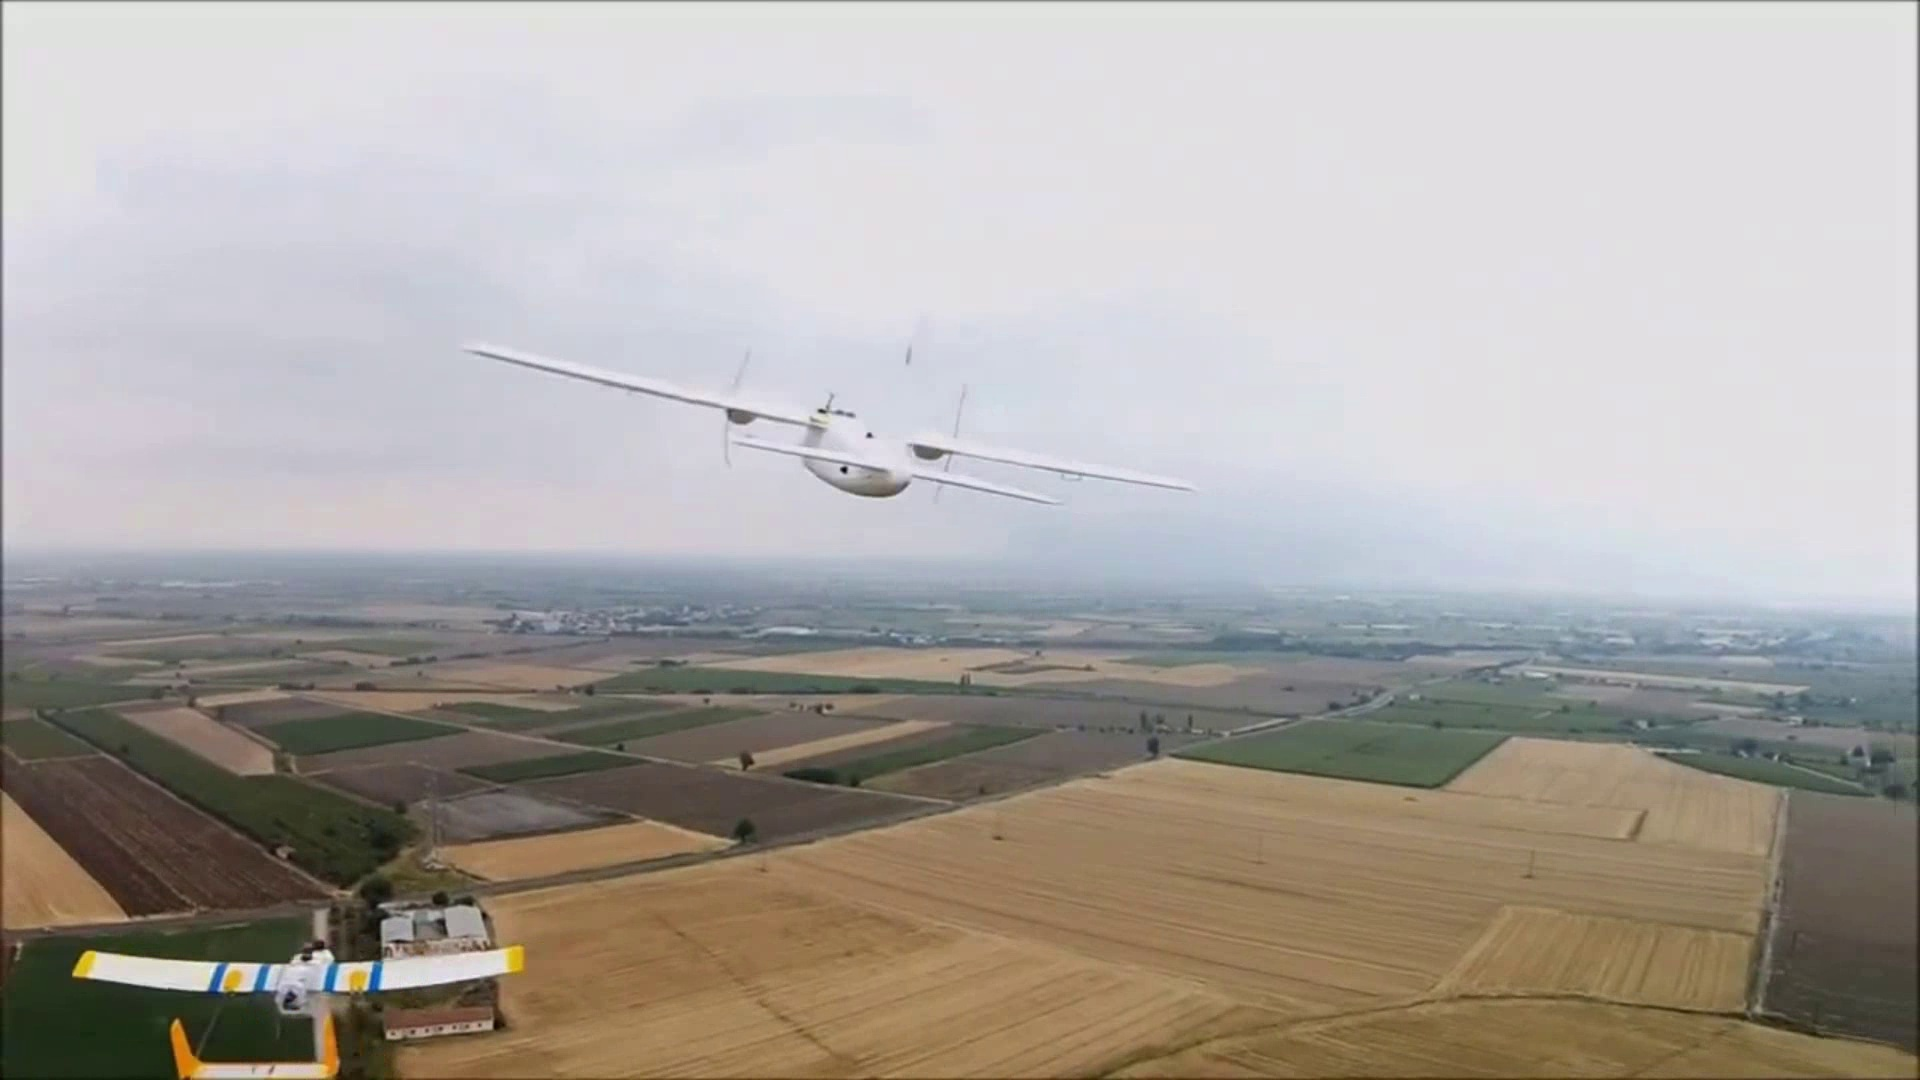airplane: (465, 332, 1199, 509)
